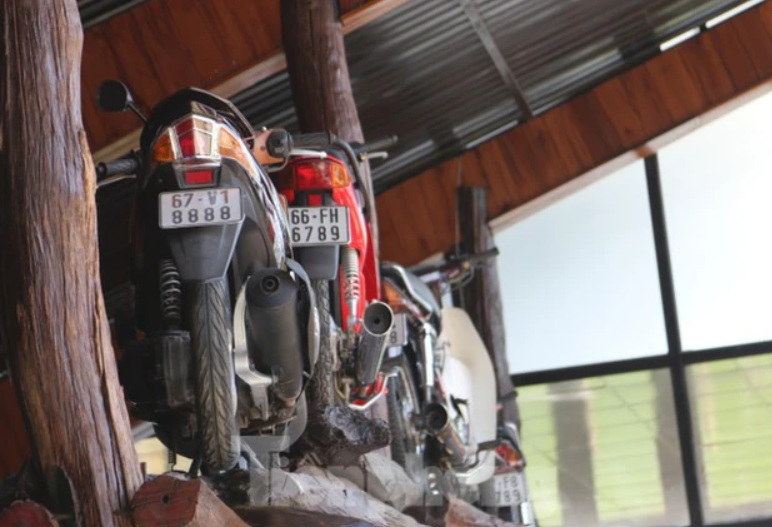bien_so: (153, 183, 246, 232), (284, 202, 353, 248)
